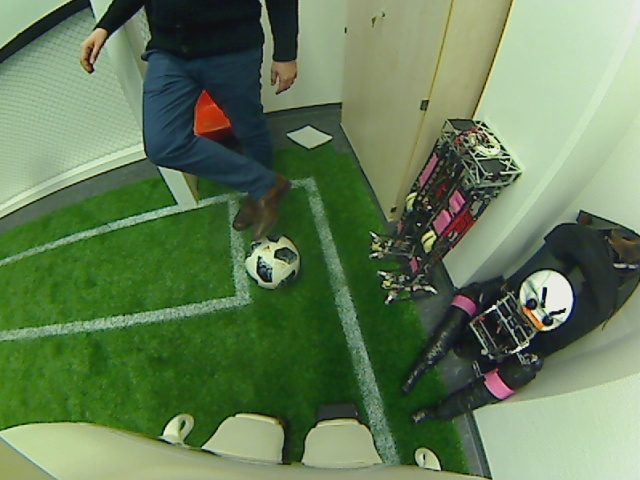ball: (245, 234, 301, 290)
